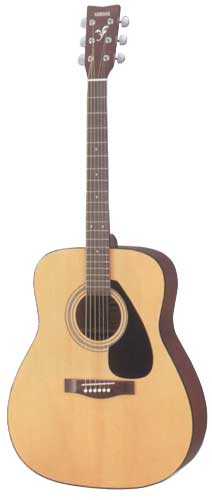guitar: (5, 4, 209, 491)
